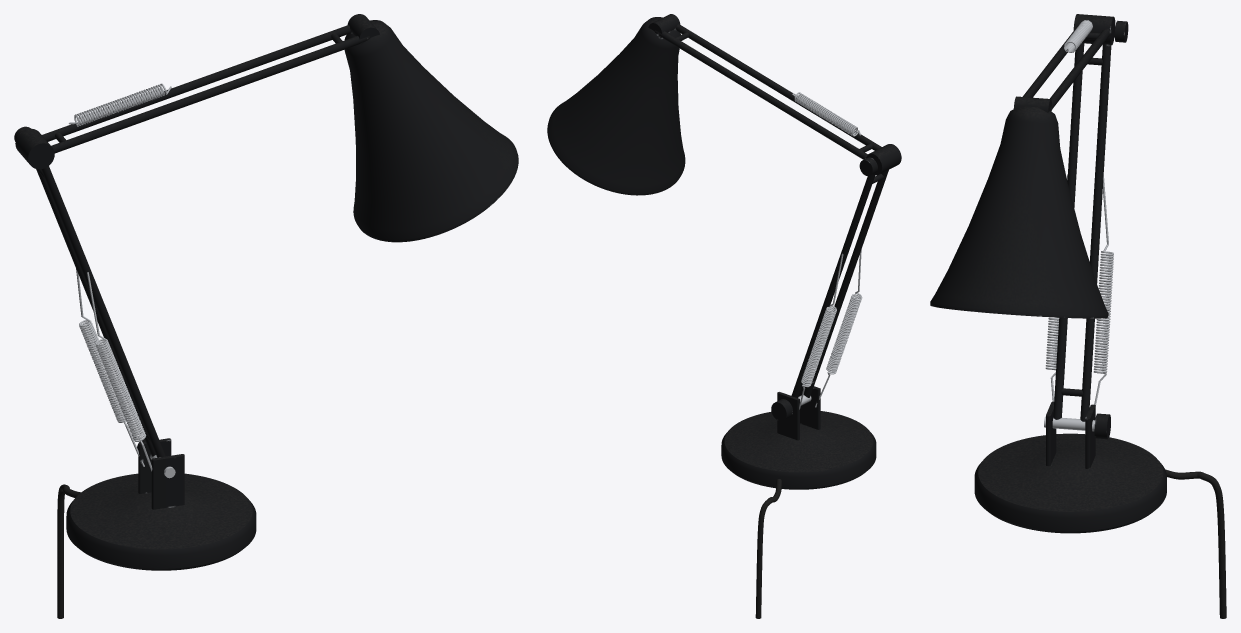
File: SM_DeskLamp.glb
3 renders of one model, left to right at view 1: azimuth 30°, elevation 25°; view 2: azimuth 150°, elevation 25°; view 3: azimuth 270°, elevation 25°, orthographic. The views are drawn at different scales.
Parts seen in each view (by area): view 1: SM_DeskLamp; view 2: SM_DeskLamp; view 3: SM_DeskLamp.
Part boxes in pixels (box(x1,y1,x2,y2)): SM_DeskLamp: box(14, 14, 518, 618); SM_DeskLamp: box(547, 14, 901, 618); SM_DeskLamp: box(930, 14, 1226, 618).
Bounding box in the file's own units: 0.4211 × 0.5494 × 0.2371.
Materials: 4 (4 with a texture image).
